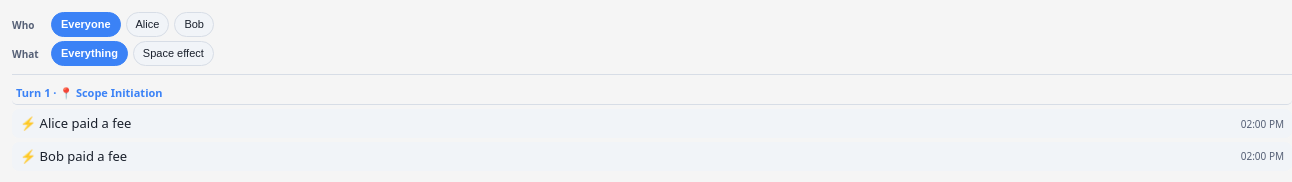
Test: HistoryFeed — the filters are on screen › picking a Who chip narrows the feed to that player
The image size is (1292, 182).
Expected: the text "⚡ Alice paid a fee" is shown, left=20, top=114, right=131, bottom=132
Expected: the text "⚡ Bob paid a fee" is shown, left=20, top=147, right=127, bottom=165
Click the button "Bob" at coordinates (194, 25), box left=174, top=12, right=214, bottom=37
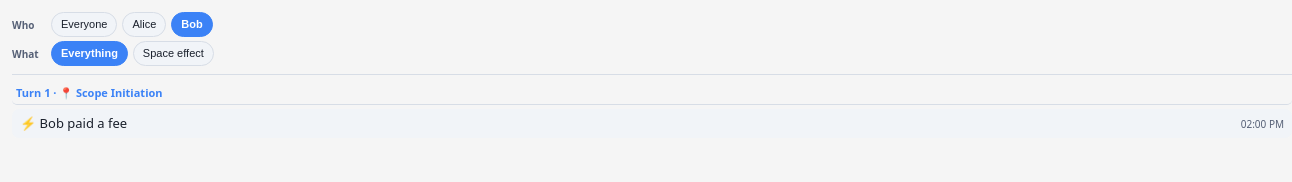
Expected: the text "Alice paid a fee" is gone
Expected: the text "⚡ Bob paid a fee" is shown, left=20, top=114, right=127, bottom=132
